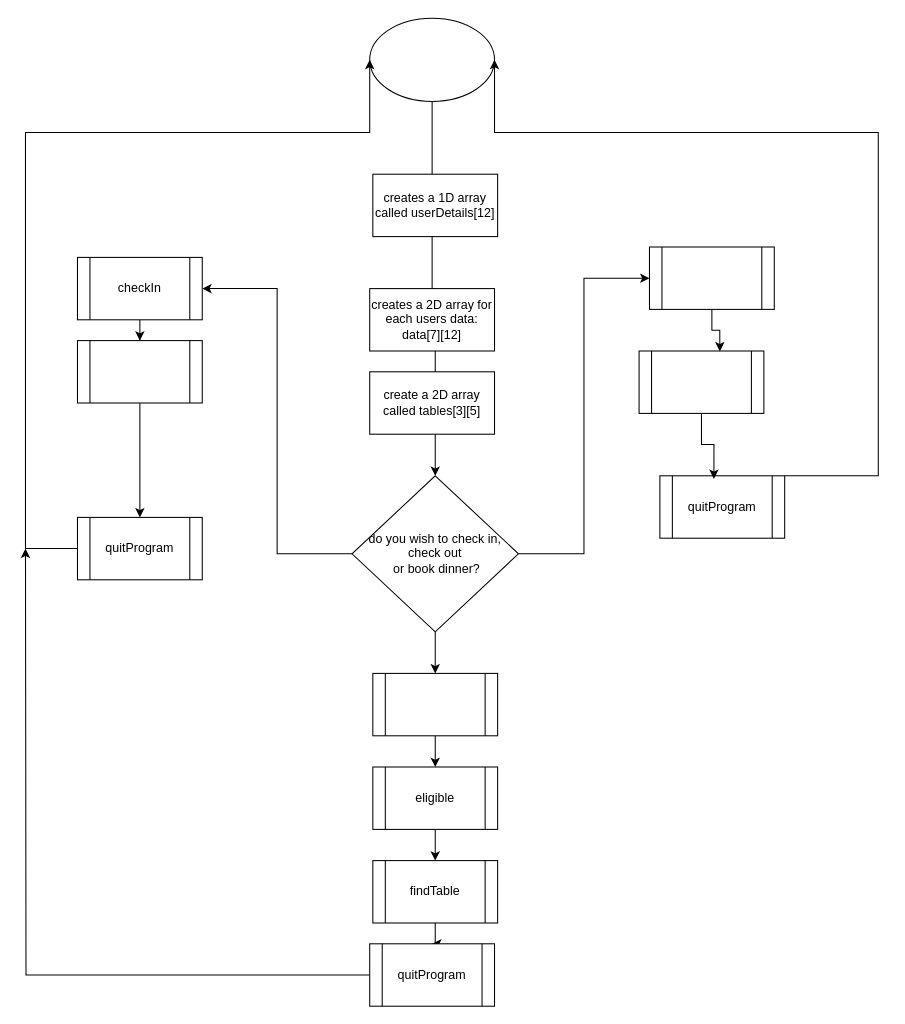
This 905x1024 diagram has some shape labels left out. Each missing label, with the centre of its shape:
billCalc: (701,381)
checkOut: (711,277)
dinner: (435,704)
personalDetails: (139,371)
start: (432,59)
